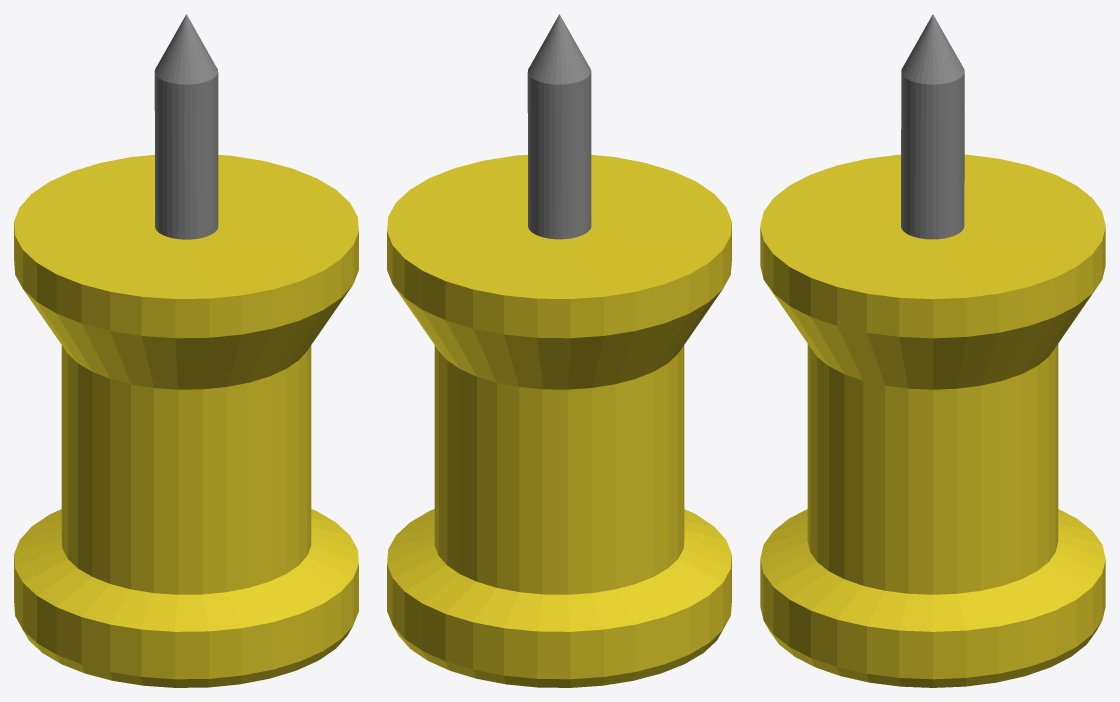
Rendered from punaiseYellow.glb.
The picture shows the model from 3 angles, left to right: view 1: azimuth 30°, elevation 25°; view 2: azimuth 150°, elevation 25°; view 3: azimuth 270°, elevation 25°; orthographic projection.
Visible parts, largest first — view 1: Cylinder; view 2: Cylinder; view 3: Cylinder.
Part boxes in pixels (x1,y1,x2,y2): Cylinder: (14, 14, 358, 687); Cylinder: (387, 14, 731, 687); Cylinder: (760, 14, 1105, 687).
Size of the model in its own units: 2 by 3.86 by 2.
